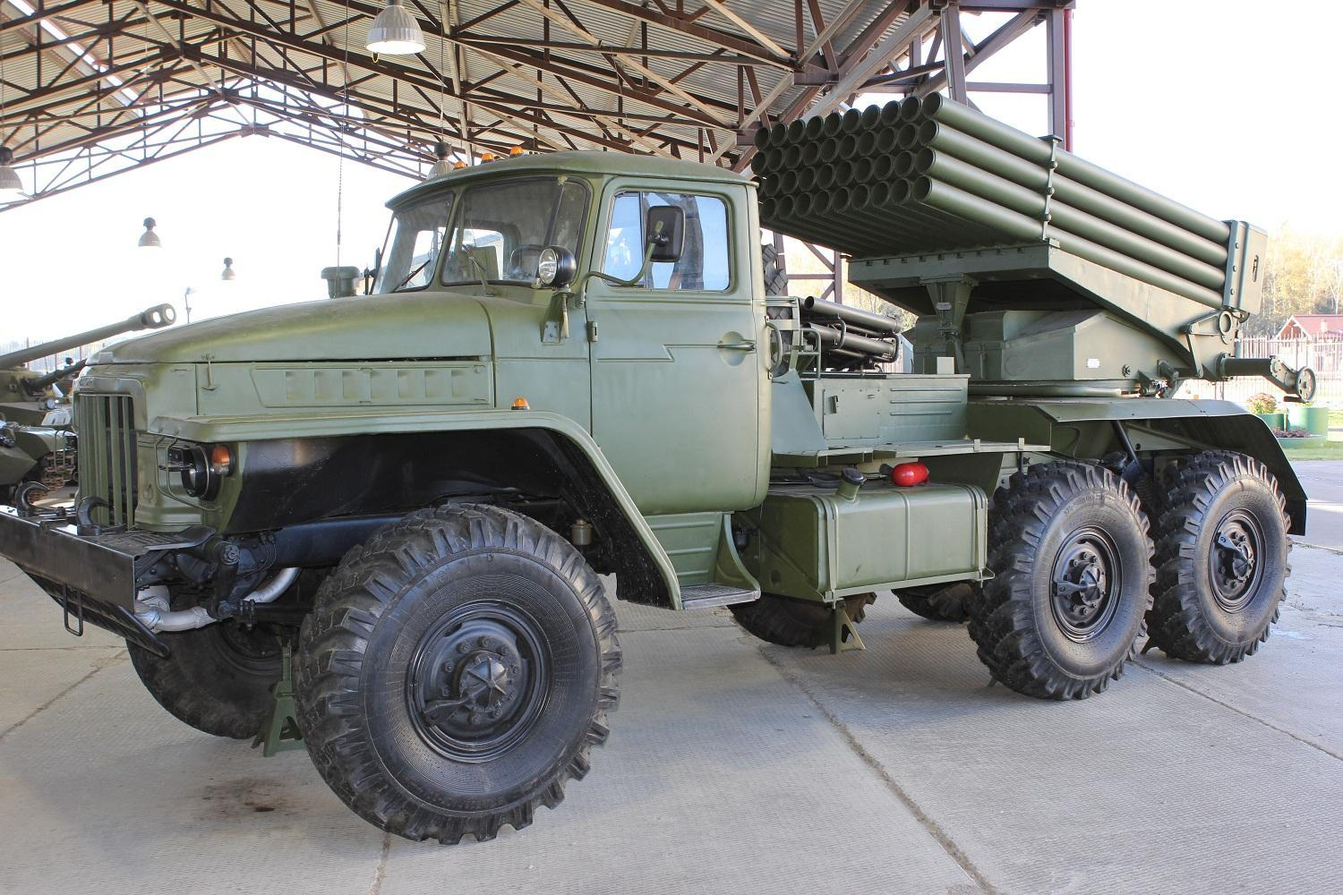rszo: (0, 26, 1314, 818)
